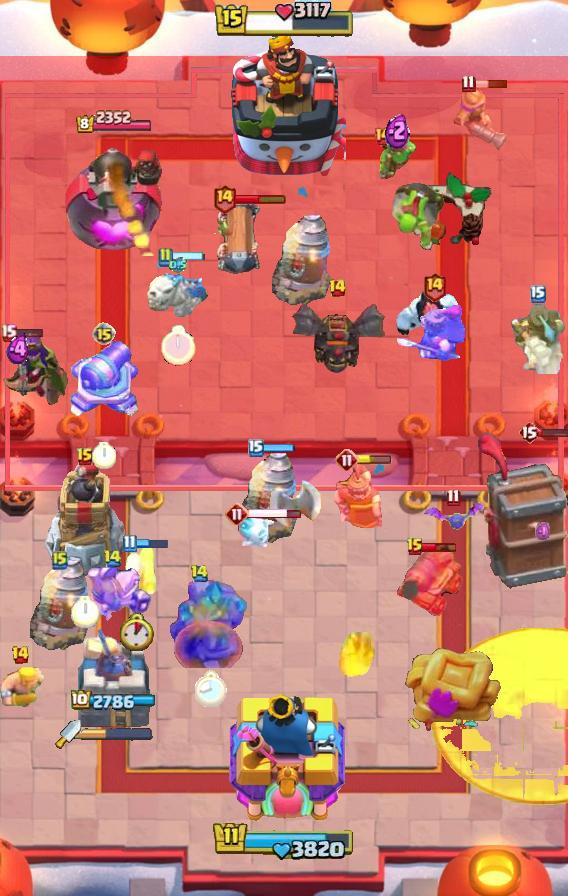archer: (0, 667, 48, 709)
archer-evolution: (289, 297, 385, 375)
bar: (75, 623, 153, 731)
bar-level: (389, 180, 447, 252)
barbarian: (420, 501, 486, 531)
barbarian-hut: (0, 330, 80, 408)
bat: (235, 513, 277, 549)
battle-healer: (214, 199, 262, 279)
bomb-tower: (450, 82, 508, 152)
cannoneer-tower: (166, 578, 256, 668)
clock: (212, 820, 356, 862), (213, 0, 355, 40)
dart-goblin: (477, 431, 567, 589)
earthquake: (334, 462, 388, 532)
electro-spirit: (385, 111, 410, 149), (5, 334, 30, 366), (536, 521, 553, 543), (169, 257, 187, 273)
elixir: (160, 326, 195, 367), (120, 613, 154, 651), (195, 670, 228, 709), (71, 596, 99, 628), (92, 443, 116, 470)
elixir-golem-big: (393, 302, 475, 366)
emote: (246, 508, 301, 521), (233, 193, 286, 205), (422, 541, 458, 553), (135, 537, 170, 549), (170, 250, 206, 261), (9, 327, 44, 338), (472, 79, 508, 89), (356, 455, 392, 465), (262, 443, 296, 453), (538, 427, 568, 438)
freeze: (71, 565, 153, 639)
giant-snowball: (376, 133, 418, 179)
inferno-dragon: (509, 298, 567, 374)
king-tower: (222, 31, 346, 181), (223, 689, 345, 826)
king-tower-bar: (81, 727, 153, 741)
magic-archer: (272, 214, 332, 306), (238, 452, 298, 544), (30, 559, 90, 651)
mini-pekka: (145, 259, 211, 323)
phoenix-egg: (432, 627, 568, 805)
rage: (392, 287, 462, 339)
royal-giant: (269, 461, 323, 529)
royal-giant-evolution: (396, 543, 464, 617)
royal-recruit: (66, 340, 142, 424)
selected: (75, 110, 153, 135), (70, 690, 157, 712)
text: (211, 182, 236, 213), (422, 270, 447, 301), (92, 322, 116, 346), (335, 448, 359, 472), (225, 502, 249, 526), (518, 420, 540, 444), (373, 126, 393, 146), (328, 278, 347, 298), (10, 645, 29, 665), (76, 447, 94, 467), (406, 537, 424, 557), (102, 549, 122, 567), (191, 565, 210, 583), (157, 247, 173, 267), (52, 550, 68, 570), (0, 323, 16, 342), (530, 285, 546, 303), (248, 439, 264, 457), (447, 489, 462, 508), (461, 75, 476, 93), (122, 535, 137, 553)
tombstone: (116, 543, 158, 601)
tower-bar: (63, 138, 164, 256)
valkyrie: (338, 632, 378, 680)
zappy: (43, 456, 128, 580)
